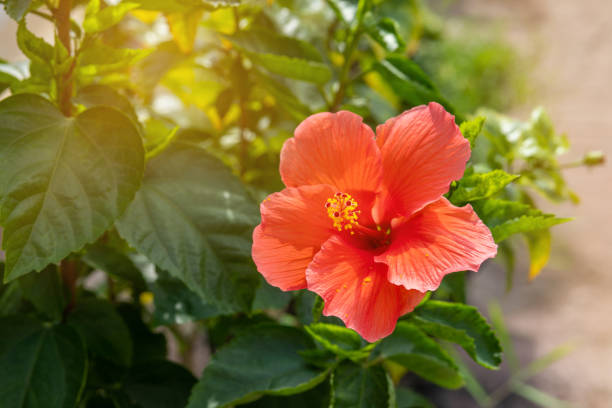Hibiscus: (251, 95, 502, 333)
